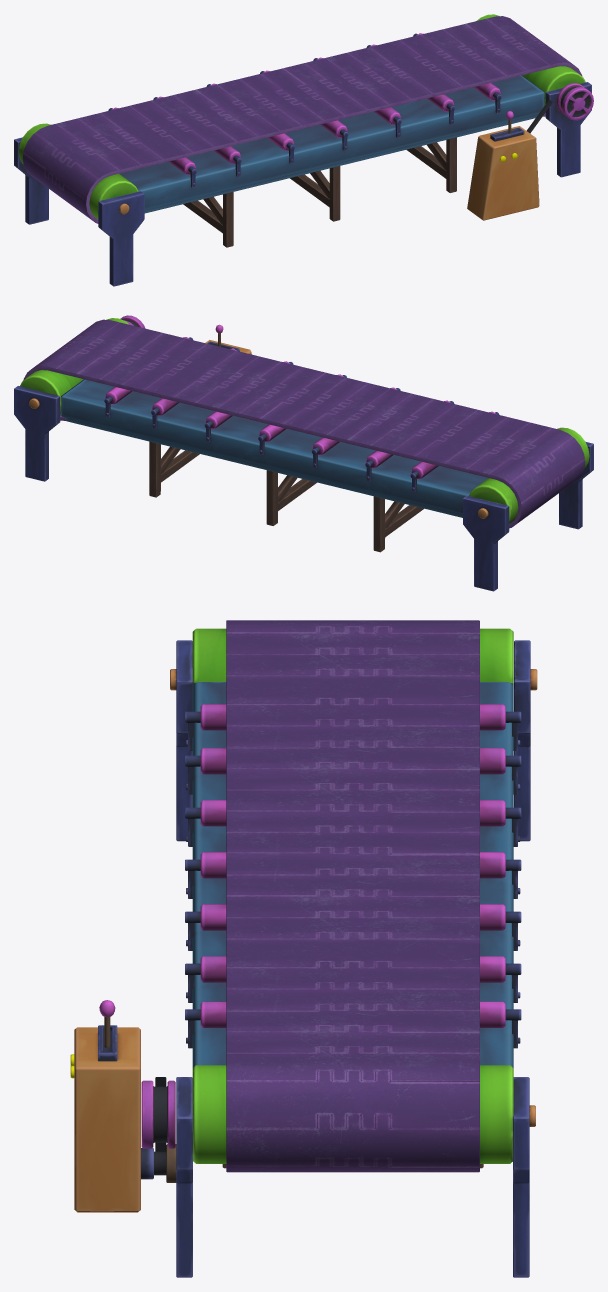
File: hub_conveyor_belt_straight.fbx
3 renders of one model, top to bottom at view 1: azimuth 30°, elevation 25°; view 2: azimuth 150°, elevation 25°; view 3: azimuth 270°, elevation 25°, orthographic. The views are drawn at different scales.
Visible parts, largest first — view 1: belt_1, polySurface123, switch_base, conveyor_end_leg_3, conveyor_end_leg_2, conveyor_leg, conveyor_leg2, conveyor_leg1, conveyor_end_leg_4, rotator_2, rotator_1; view 2: belt_1, polySurface123, conveyor_end_leg_1, conveyor_end_leg_4, conveyor_leg2, conveyor_leg1, conveyor_leg, rotator_2, conveyor_end_leg_3, rotator_1; view 3: belt_1, polySurface123, switch_base, rotator_1, conveyor_end_leg_2, rotator_2, conveyor_end_leg_1, conveyor_end_leg_4, conveyor_end_leg_3.
Part boxes in pixels (x1,y1,x2,y2): belt_1: [22, 16, 582, 223]; polySurface123: [108, 33, 544, 213]; switch_base: [467, 126, 539, 220]; conveyor_end_leg_3: [98, 191, 144, 286]; conveyor_end_leg_2: [545, 82, 593, 177]; conveyor_leg: [290, 166, 340, 221]; conveyor_leg2: [183, 192, 233, 247]; conveyor_leg1: [406, 137, 456, 192]; conveyor_end_leg_4: [14, 137, 48, 224]; rotator_2: [18, 123, 138, 219]; rotator_1: [477, 14, 585, 105]; belt_1: [23, 319, 585, 528]; polySurface123: [61, 337, 499, 517]; conveyor_end_leg_1: [14, 386, 60, 481]; conveyor_end_leg_4: [463, 495, 509, 591]; conveyor_leg2: [373, 496, 423, 552]; conveyor_leg1: [149, 441, 199, 497]; conveyor_leg: [266, 470, 316, 525]; rotator_2: [469, 427, 589, 523]; conveyor_end_leg_3: [559, 441, 593, 529]; rotator_1: [20, 318, 129, 414]; belt_1: [226, 620, 479, 1172]; polySurface123: [185, 682, 521, 1067]; switch_base: [74, 1025, 176, 1212]; rotator_1: [192, 1065, 513, 1163]; conveyor_end_leg_2: [141, 1077, 192, 1277]; rotator_2: [192, 628, 513, 683]; conveyor_end_leg_1: [513, 1077, 535, 1277]; conveyor_end_leg_4: [514, 640, 537, 841]; conveyor_end_leg_3: [170, 640, 192, 841].
Bounding box in the file's own units: 1234 × 245 × 501.
3 materials, 2 textured.
